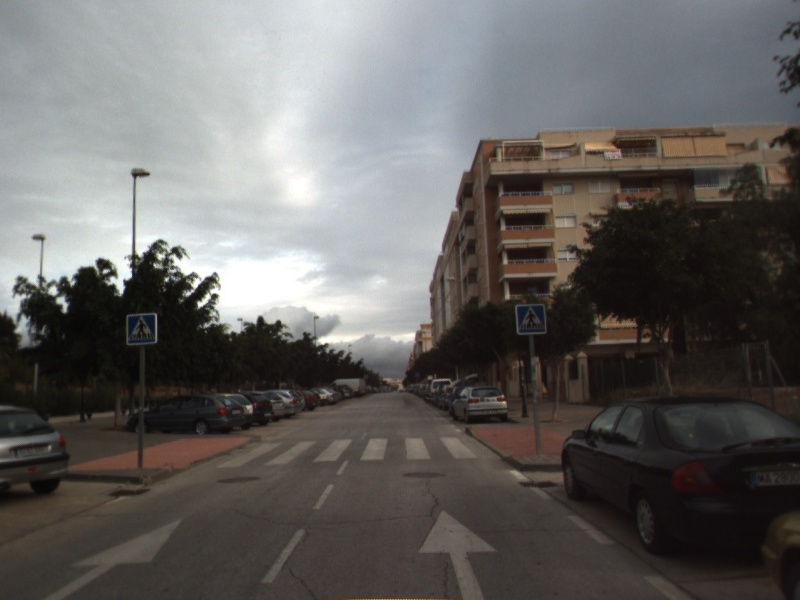STRAIGHT: (40, 516, 184, 600), (416, 508, 500, 600)
